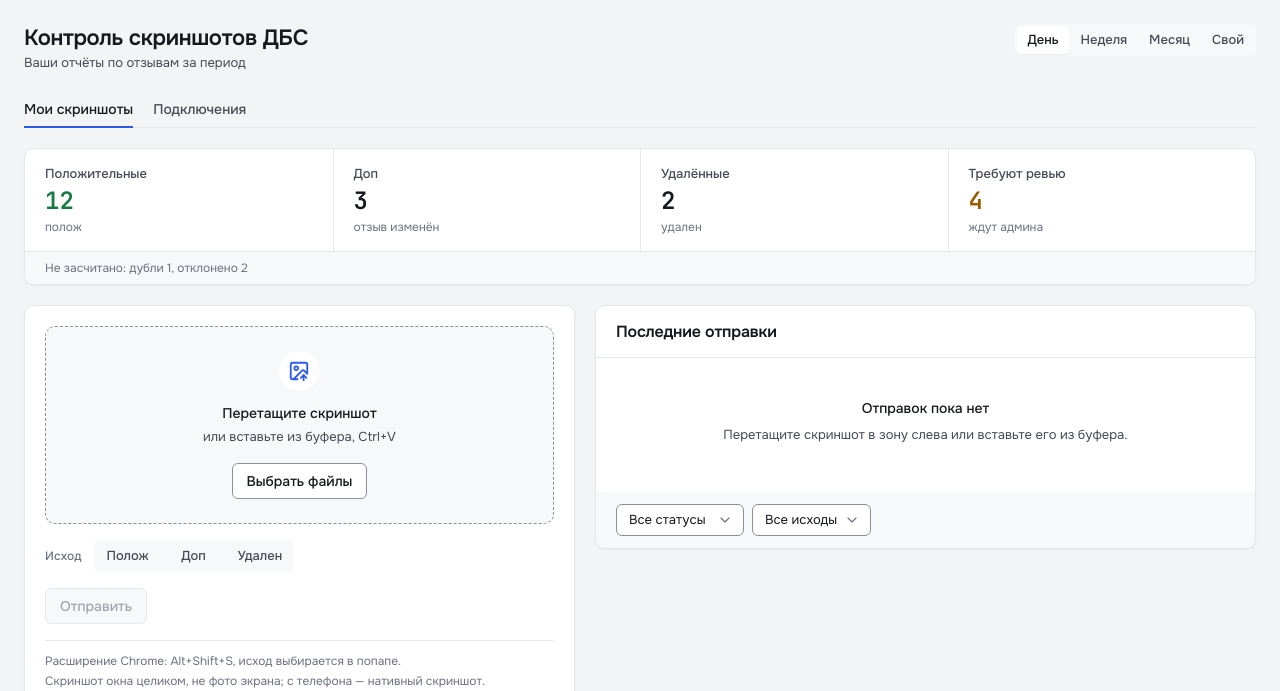
Scenario: ScreenshotControlPage › issues a pairing code with a countdown and revokes an install
Click the tab "Подключения". click: coordinates (200, 110)
box: [153,92,246,128]
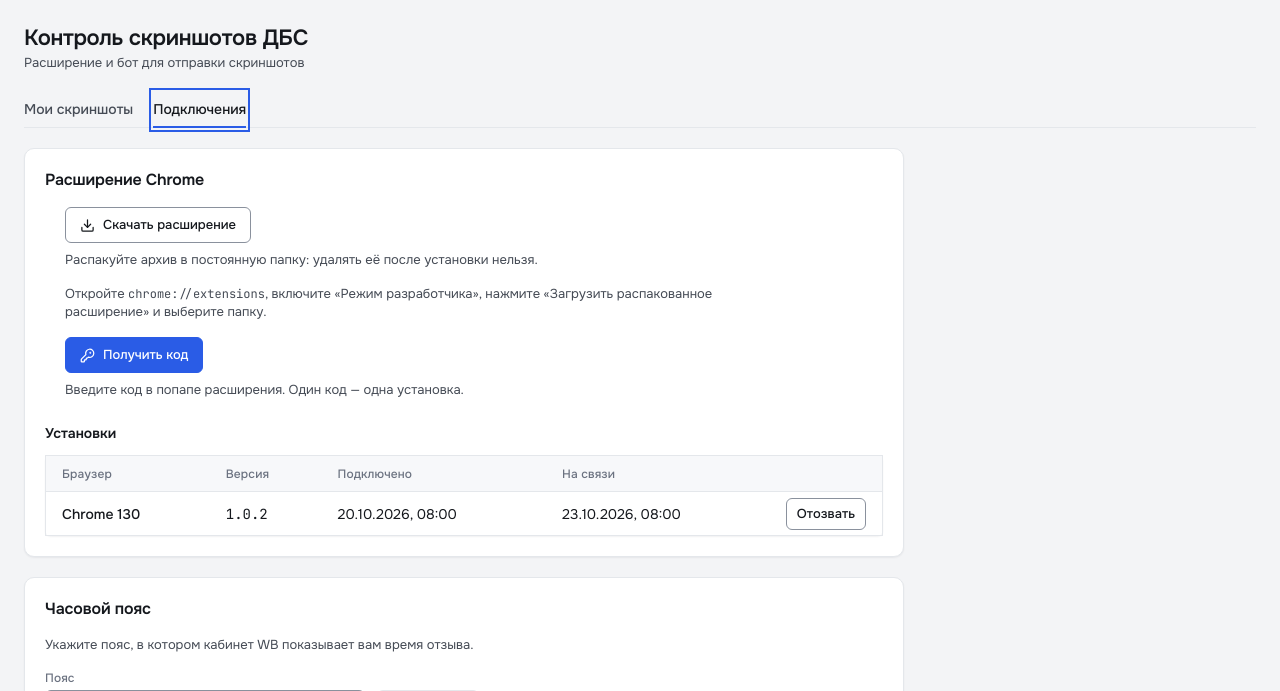
Click the button "Получить код". click: coordinates (134, 355)
box: [65,337,204,373]
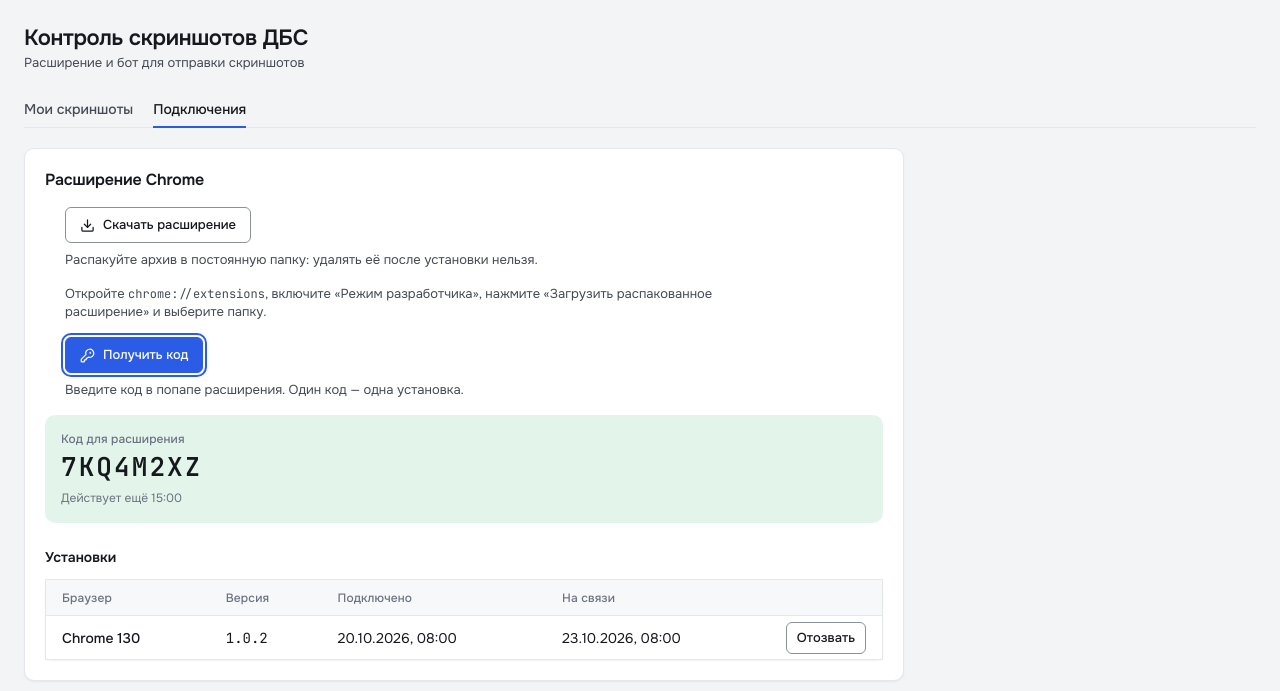
Result: the text "7KQ4M2XZ" is shown at [61,451,202,483]
Result: the text "Действует ещё 15:00" is shown at [61,490,182,506]
Click the button "Отозвать". click: coordinates (826, 638)
box: [786,622,866,654]
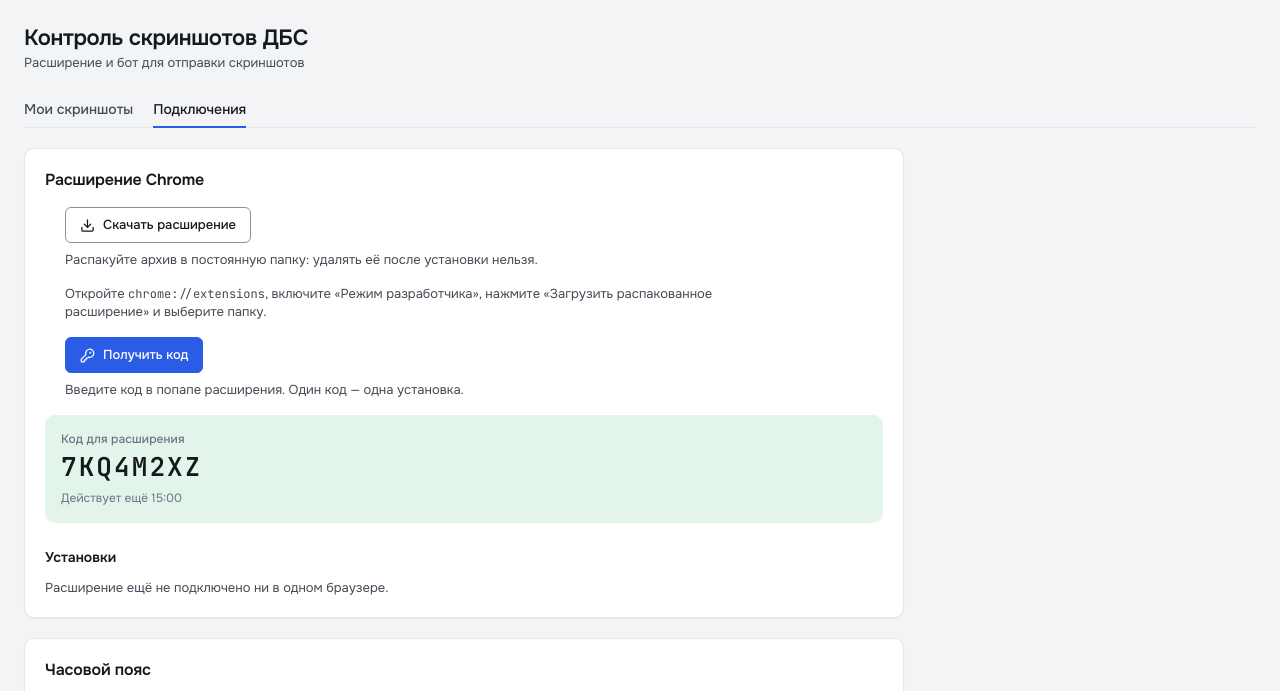
Result: the text "Расширение ещё не подключено ни в одном браузере." is shown at [45,579,388,596]
